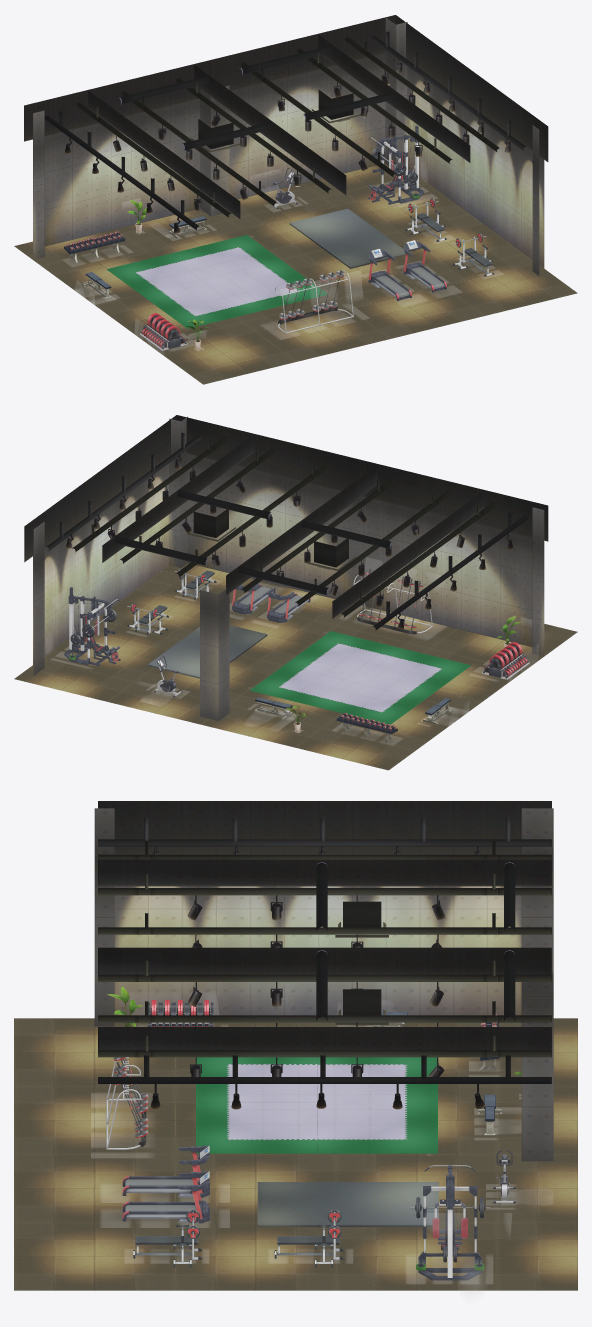
Rendered from gym_room.glb.
3 renders of one model, top to bottom at view 1: azimuth 30°, elevation 25°; view 2: azimuth 150°, elevation 25°; view 3: azimuth 270°, elevation 25°, orthographic. The views are drawn at different scales.
Parts seen in each view (by area): view 1: Object_163, Object_164, Object_161; view 2: Object_163, Object_164, Object_161; view 3: Object_163, Object_164, Object_161.
Boxes of the visible parts, x1,y1,x2,y2 form: Object_163: (24, 15, 548, 350); Object_164: (14, 163, 577, 384); Object_161: (64, 121, 502, 353); Object_163: (24, 415, 548, 742); Object_164: (14, 563, 577, 770); Object_161: (46, 557, 537, 744); Object_163: (94, 801, 553, 1280); Object_164: (14, 1018, 577, 1290); Object_161: (91, 995, 552, 1294).
Size of the model in its own units: 16.06 by 6.6 by 14.
Materials: 3 (3 with a texture image).
